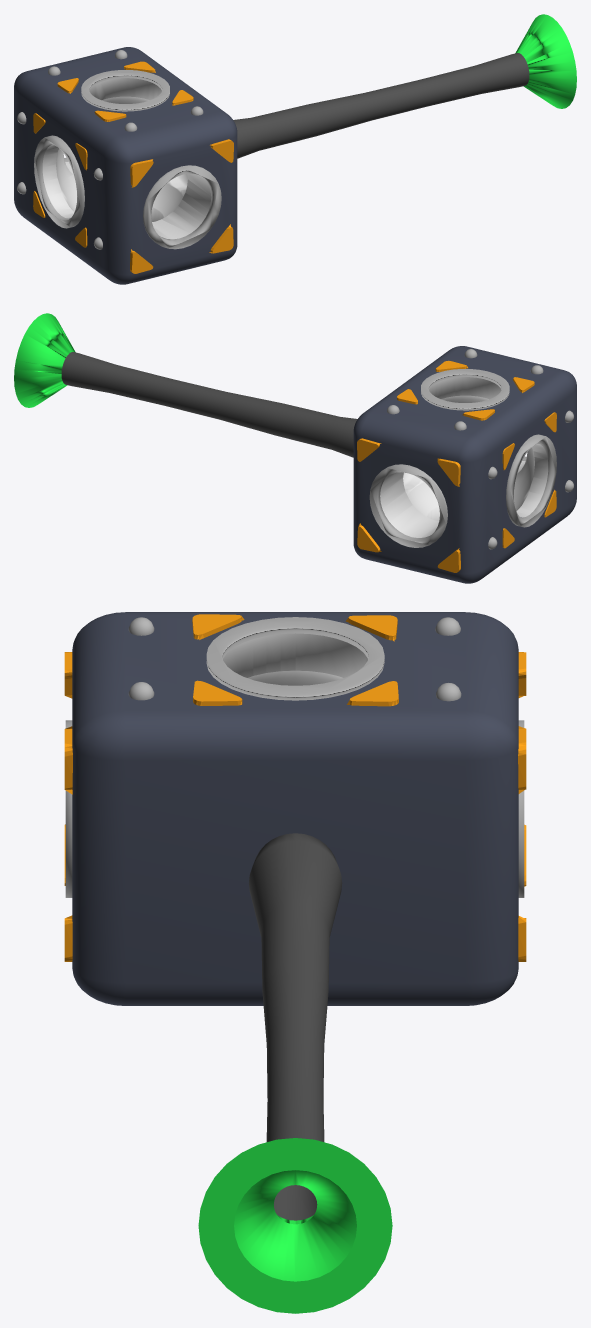
File: HammerFinal.fbx
3 renders of one model, top to bottom at view 1: azimuth 30°, elevation 25°; view 2: azimuth 150°, elevation 25°; view 3: azimuth 270°, elevation 25°, orthographic. The views are drawn at different scales.
Parts seen in each view (by area): view 1: Ring.F.001; view 2: Ring.F.001; view 3: Ring.F.001.
Boxes of the visible parts, x1,y1,x2,y2 form: Ring.F.001: [14, 14, 576, 284]; Ring.F.001: [14, 313, 576, 583]; Ring.F.001: [64, 612, 526, 1313].
Bounding box in the file's own units: 61866 × 18978 × 24890.
